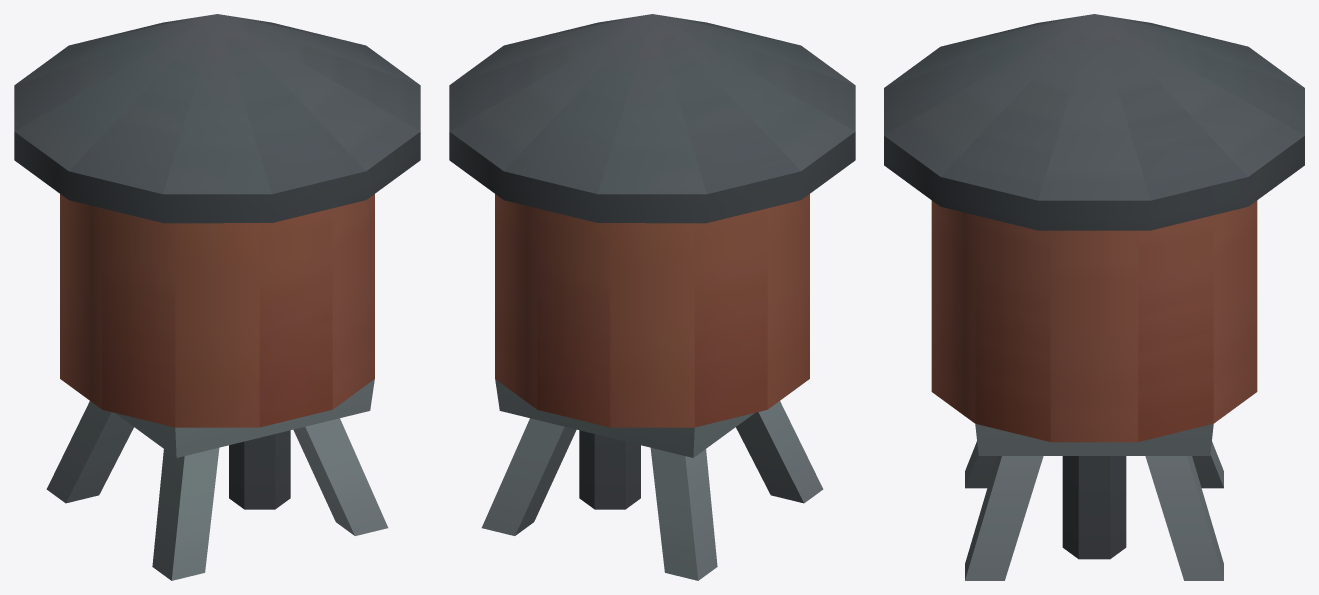
File: watertower.glb
The picture shows the model from 3 angles, left to right: view 1: azimuth 30°, elevation 25°; view 2: azimuth 150°, elevation 25°; view 3: azimuth 270°, elevation 25°; orthographic projection. The views are drawn at different scales.
Visible parts, largest first — view 1: watertower; view 2: watertower; view 3: watertower.
Part boxes in pixels (x1=…): watertower: x1=14, y1=14, x2=420, y2=580; watertower: x1=449, y1=14, x2=855, y2=580; watertower: x1=884, y1=14, x2=1304, y2=580.
Bounding box in the file's own units: 0.4989 × 0.67 × 0.4989.
Materials: 1 (1 with a texture image).
